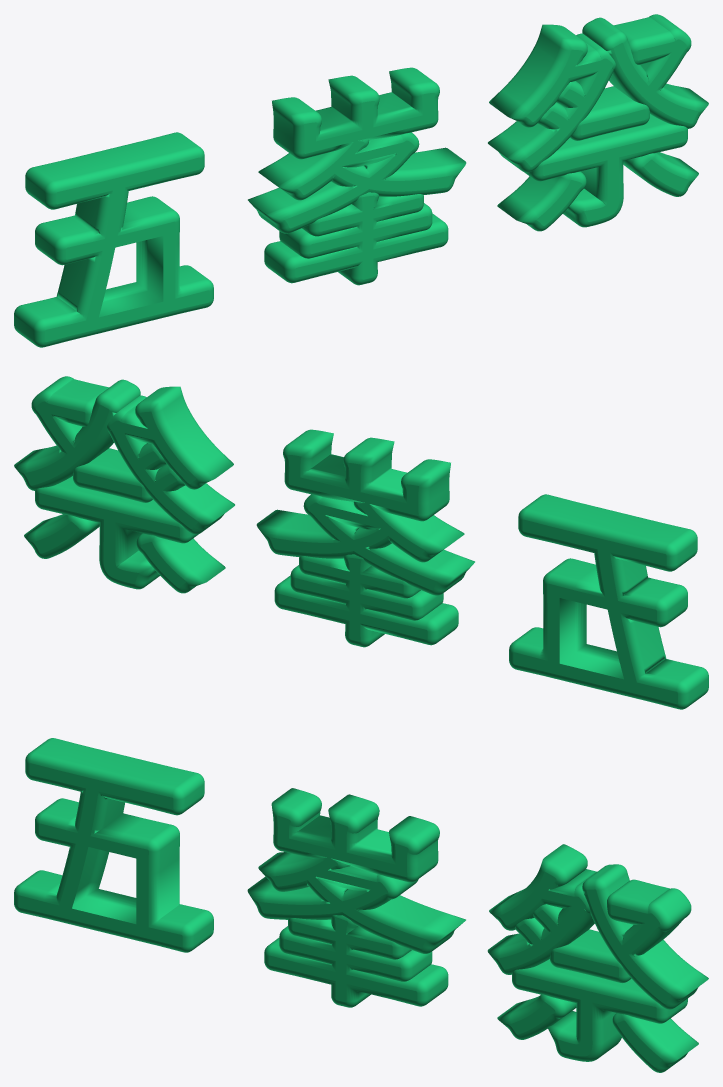
The model's file is taitorunomoji.obj.
The picture shows the model from 3 angles, top to bottom: view 1: azimuth 30°, elevation 25°; view 2: azimuth 150°, elevation 25°; view 3: azimuth 330°, elevation 25°; orthographic projection.
Parts seen in each view (by area): view 1: テキスト; view 2: テキスト; view 3: テキスト.
Part boxes in pixels (x1,y1,x2,y2): テキスト: (14, 14, 708, 347); テキスト: (14, 376, 708, 709); テキスト: (14, 738, 708, 1072).
Size of the model in its own units: 5.21 by 1.45 by 0.3601.
